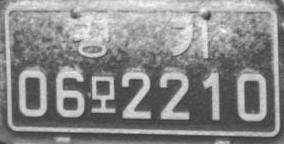0: (235, 71, 267, 123), (17, 68, 48, 118)
1: (200, 71, 227, 121)
2: (121, 70, 152, 121), (159, 70, 190, 121)
6: (54, 70, 85, 118)
경기_D: (72, 17, 209, 60)
모: (89, 74, 117, 114)
